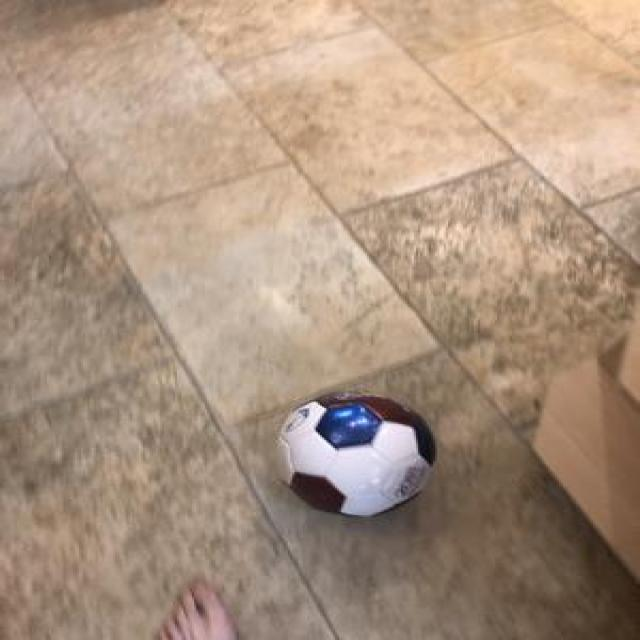ball: (273, 387, 437, 515)
